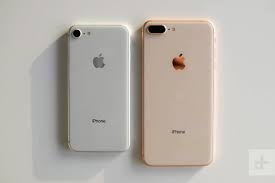iphone: (140, 14, 221, 172)
